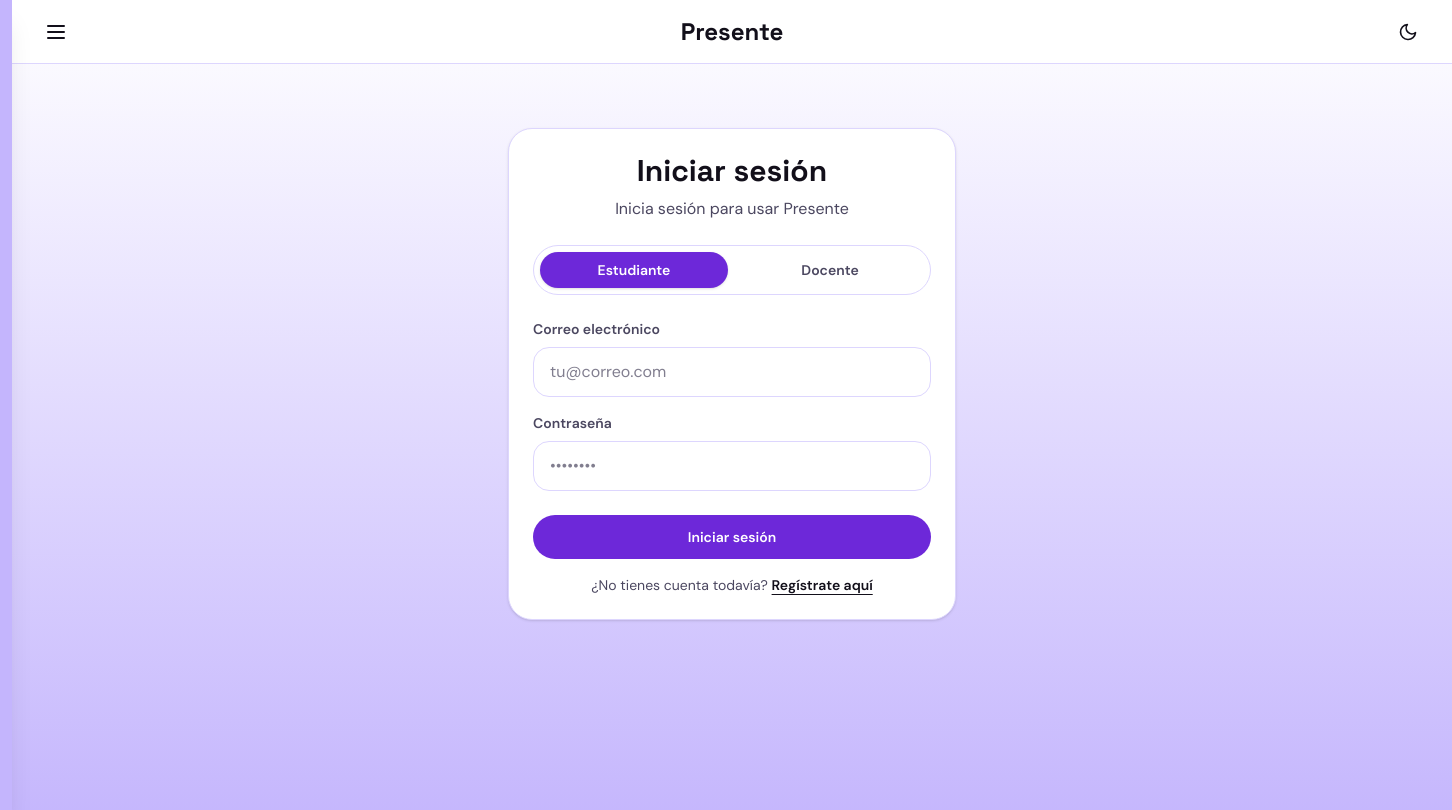
Login › muestra el error del servidor y no guarda sesión
In the field labelled "Correo electrónico": (732, 372) [533,347,931,397], type "ana@presente.dev"
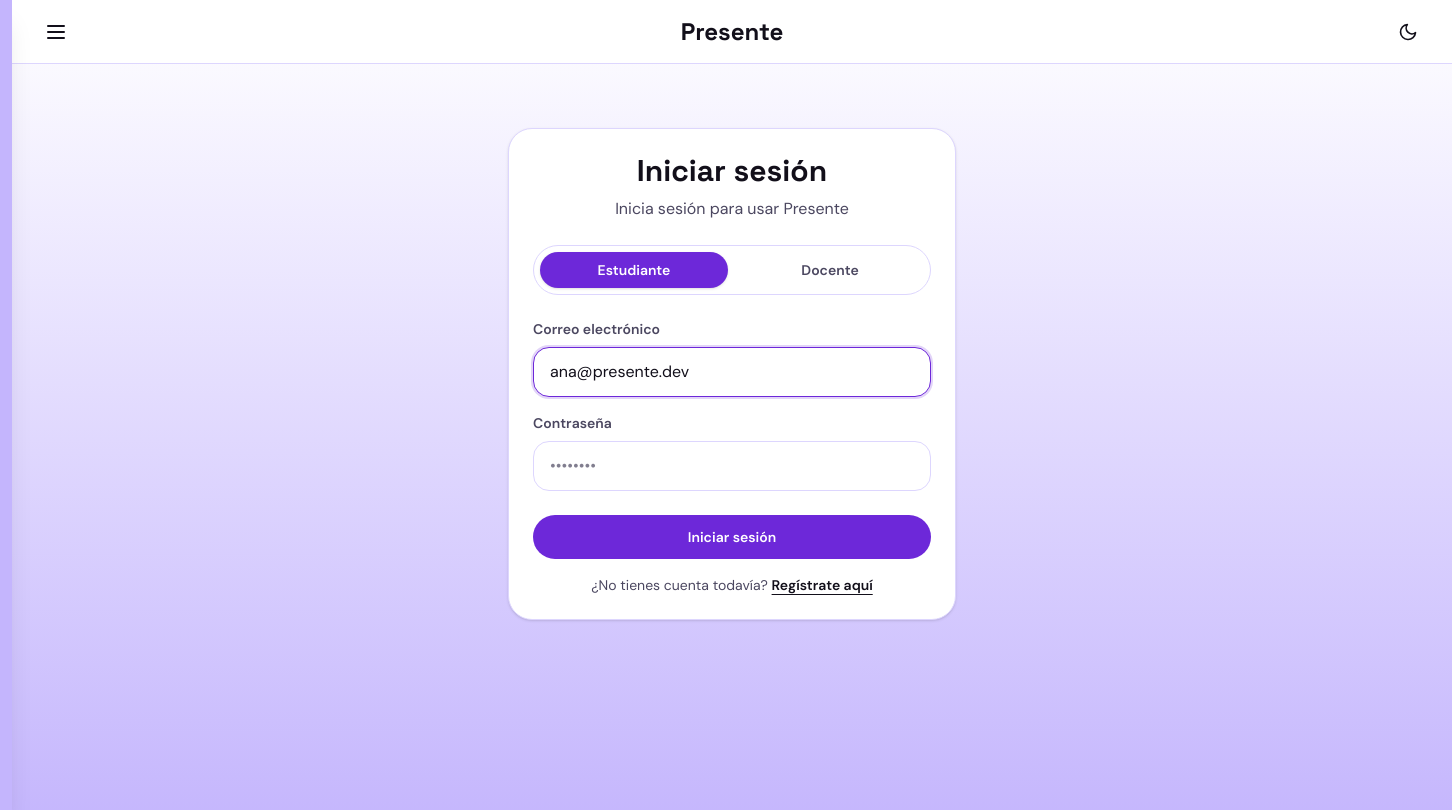
In the password field labelled "Contraseña": (732, 466) [533,441,931,491], type "clave-de-prueba"
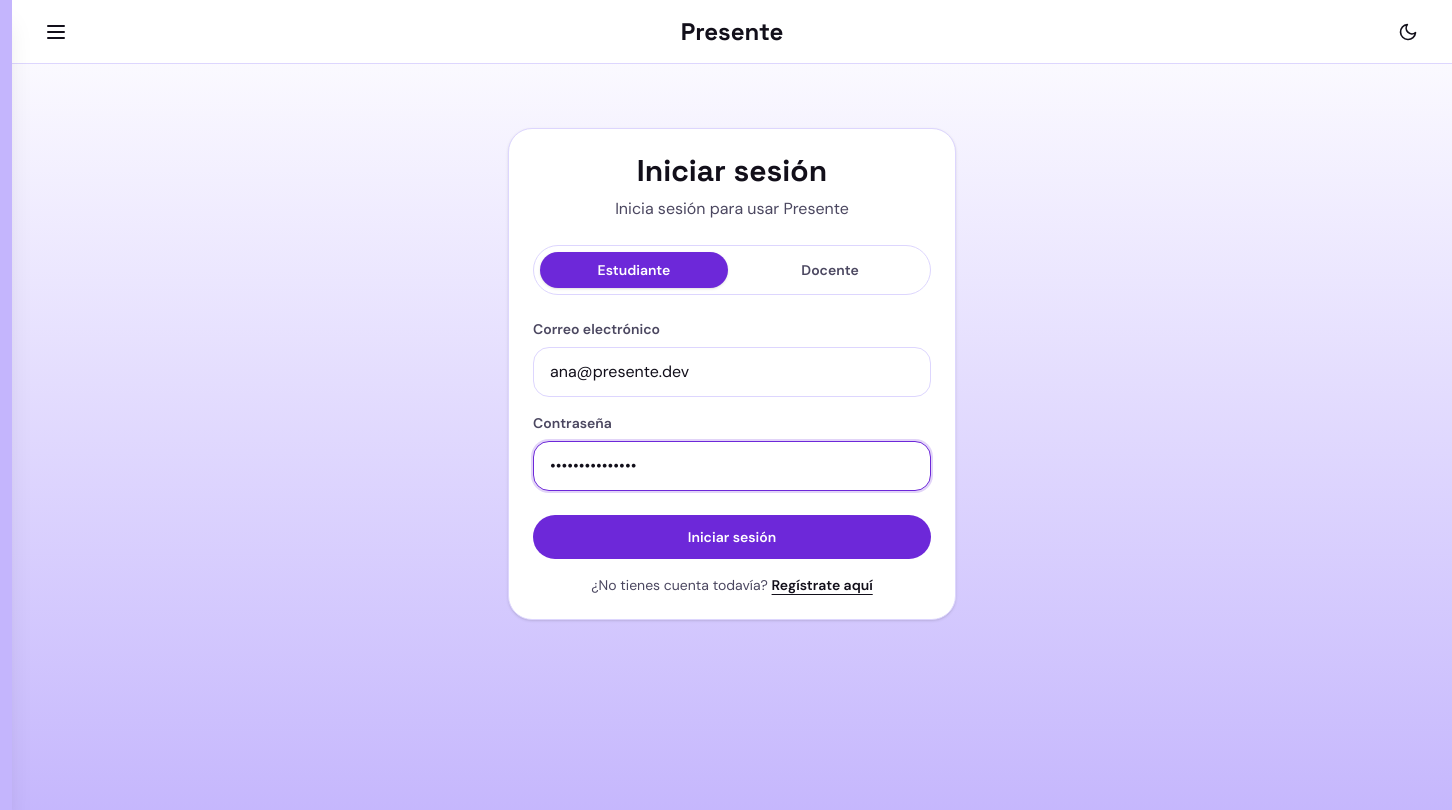
Click the button "Iniciar sesión": click(732, 537) [533,515,931,559]
(page scrolled)
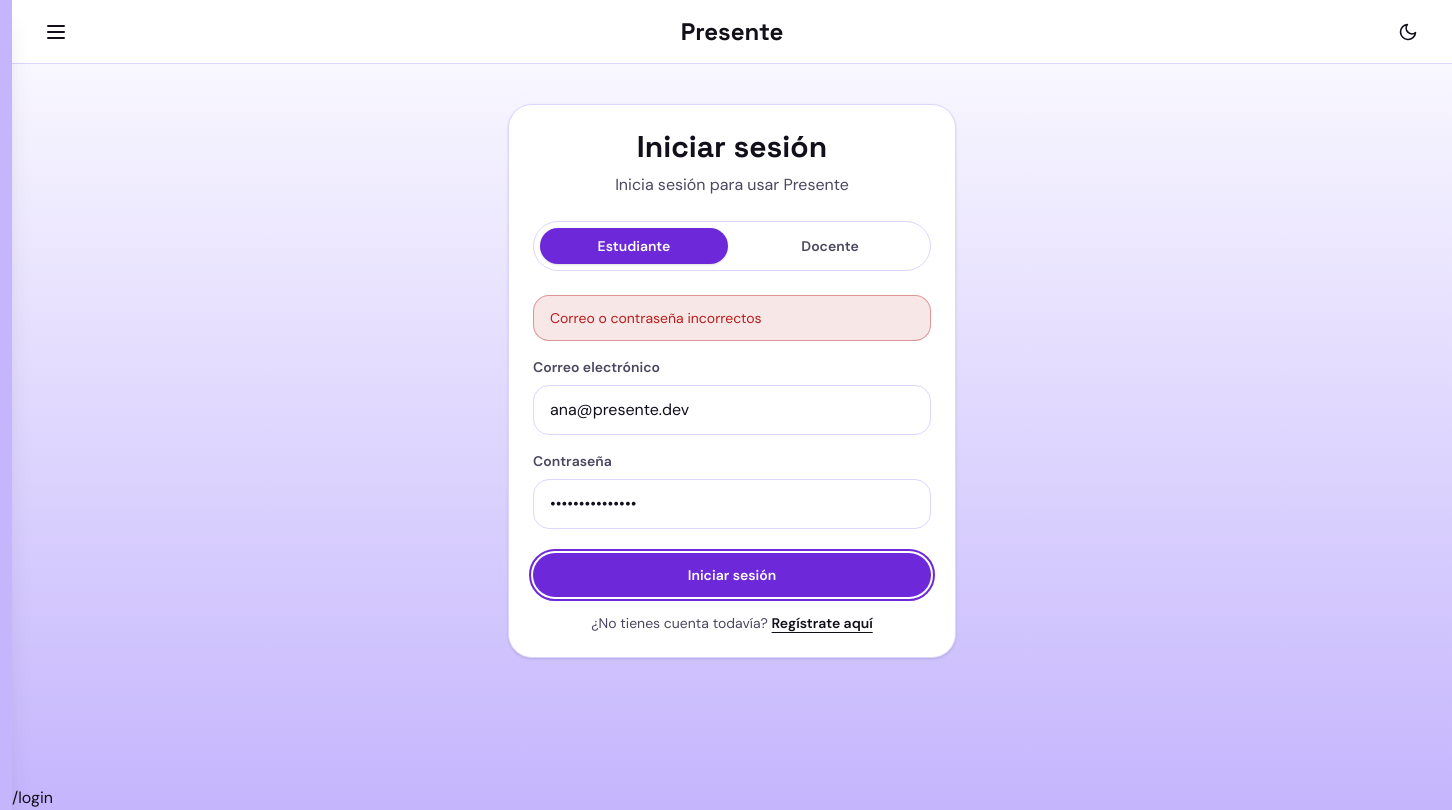
Expected: the text with test id "ruta" reads "/login", [12,787,53,808]
Now the message reads "Correo o contraseña incorrectos", box [550,309,762,327]
